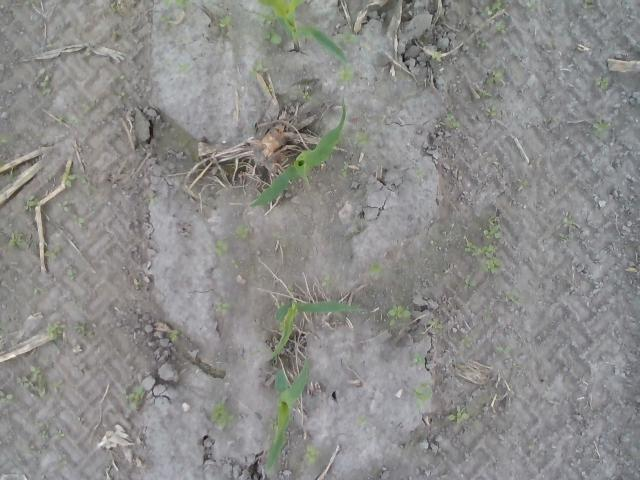Maize: (250, 97, 347, 211), (268, 296, 374, 362), (257, 0, 348, 66), (266, 358, 312, 473)
Weeds: (14, 366, 50, 398), (207, 400, 237, 431), (387, 304, 413, 328), (124, 384, 146, 412), (61, 168, 88, 190), (47, 318, 64, 352), (464, 240, 496, 258), (212, 15, 235, 40), (447, 405, 472, 426), (261, 26, 283, 49), (414, 382, 433, 408), (480, 0, 512, 15), (483, 215, 502, 240), (336, 30, 362, 48), (485, 68, 505, 88), (304, 444, 322, 464), (334, 65, 354, 83), (6, 230, 26, 248), (479, 256, 501, 272), (38, 74, 53, 96), (232, 222, 250, 240), (22, 192, 40, 210), (54, 114, 80, 126), (504, 287, 522, 304), (213, 239, 230, 257), (592, 117, 608, 135), (160, 0, 190, 9), (368, 262, 384, 278), (258, 9, 274, 25), (33, 424, 50, 439), (249, 64, 270, 76), (463, 272, 478, 288), (0, 389, 16, 404), (410, 351, 424, 368), (447, 112, 461, 128), (54, 199, 70, 213), (428, 320, 446, 332), (111, 88, 129, 100), (562, 211, 576, 226), (594, 76, 608, 91), (177, 60, 193, 73), (352, 132, 368, 145), (527, 0, 544, 12), (50, 379, 64, 393), (158, 15, 174, 26), (215, 302, 232, 312), (340, 160, 350, 177), (44, 246, 61, 256), (431, 50, 444, 63), (495, 344, 513, 353), (73, 214, 89, 224), (146, 192, 158, 205), (319, 275, 332, 287), (495, 19, 506, 33), (300, 90, 312, 102), (0, 132, 12, 144), (78, 324, 89, 337), (463, 336, 474, 348), (67, 270, 78, 282), (81, 104, 94, 114), (112, 72, 128, 80), (486, 105, 496, 117), (230, 260, 242, 270), (580, 0, 594, 8), (478, 90, 492, 98), (356, 415, 368, 424), (477, 38, 487, 48), (414, 168, 424, 178), (55, 430, 65, 440), (168, 330, 176, 342), (46, 40, 56, 49), (110, 3, 119, 13), (287, 287, 297, 293), (279, 321, 285, 330)
